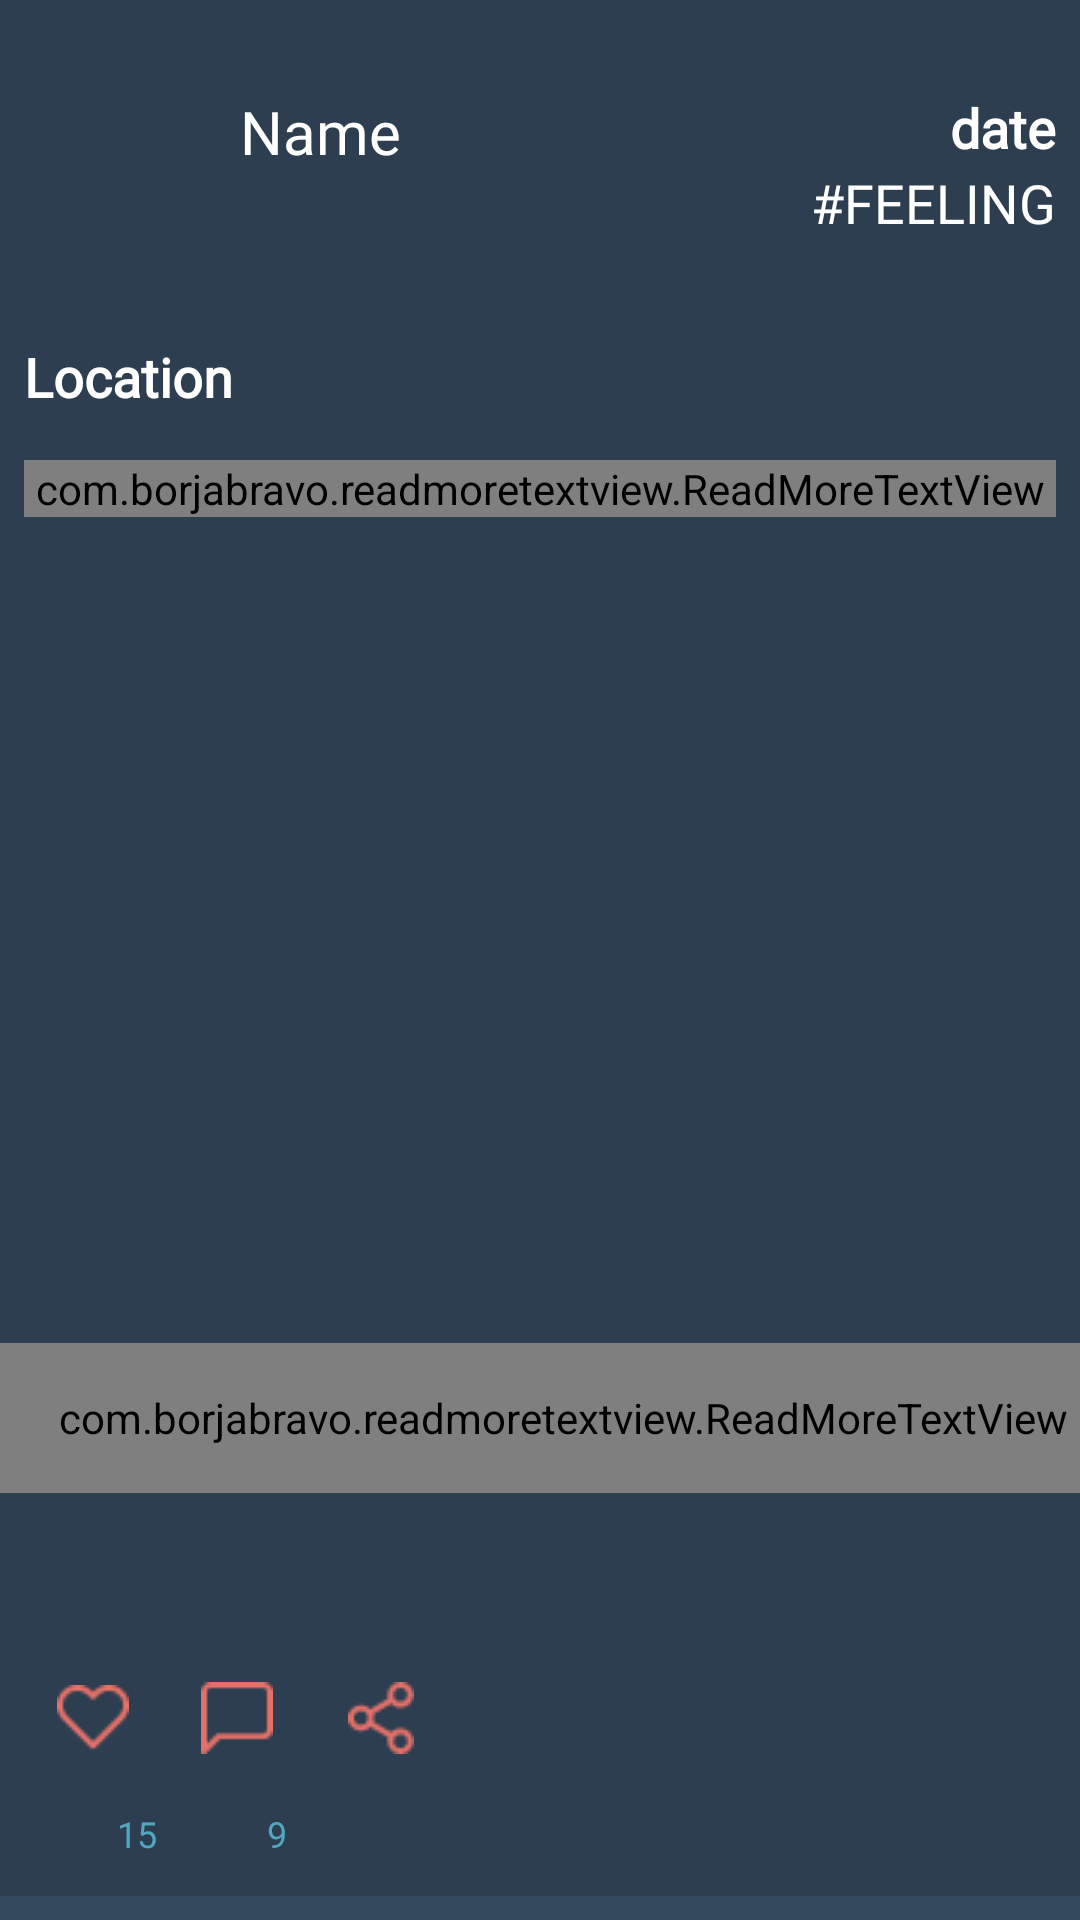

Where to tap for icons on this 1080 x 1920 app screen, as (x,y):
comment: (237,1718)
like: (93,1717)
sharenew: (381,1718)
